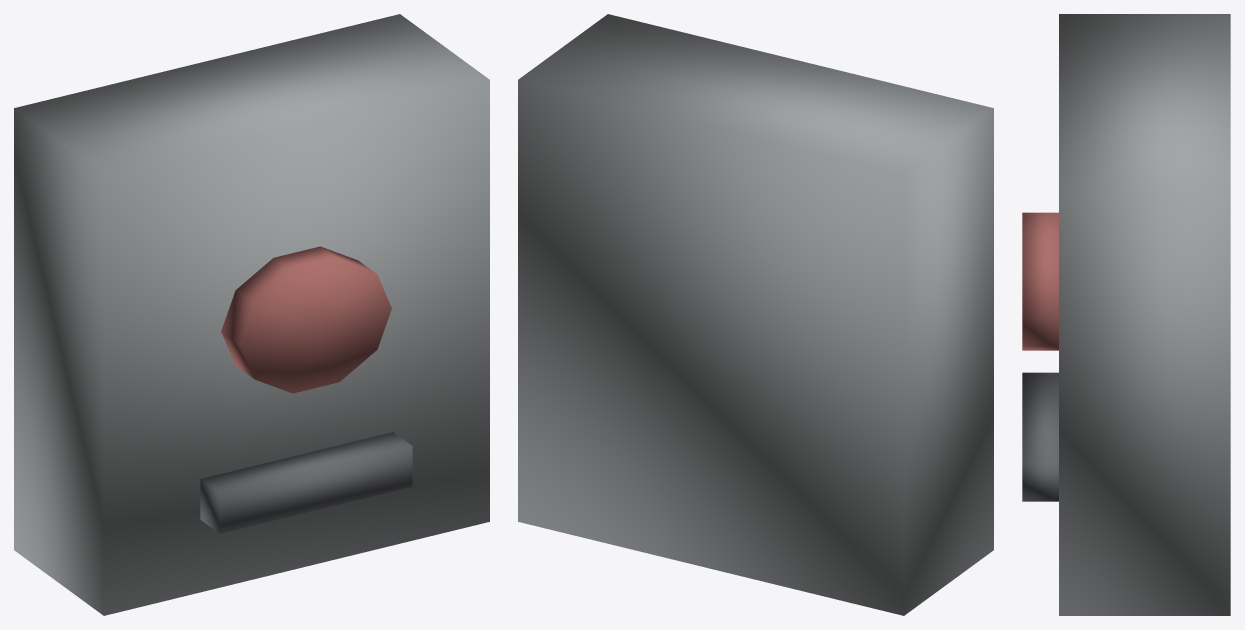
The model's file is queue_ticket_dispenser__wide.glb.
3 views of the same model, side by side, from view 1: azimuth 30°, elevation 25°; view 2: azimuth 150°, elevation 25°; view 3: azimuth 270°, elevation 25° (orthographic). The views are drawn at different scales.
Visible parts, largest first — view 1: world; view 2: world; view 3: world.
Boxes of the visible parts, box(x1,y1,x2,y2) form: world: box(14, 14, 489, 615); world: box(518, 14, 993, 615); world: box(1022, 14, 1230, 615).
Bounding box in the file's own units: 0.3472 × 0.38 × 0.17.
